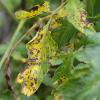Tomato Septoria leaf spot: (12, 23, 57, 98), (50, 48, 79, 98), (66, 1, 97, 35), (14, 1, 52, 20)
